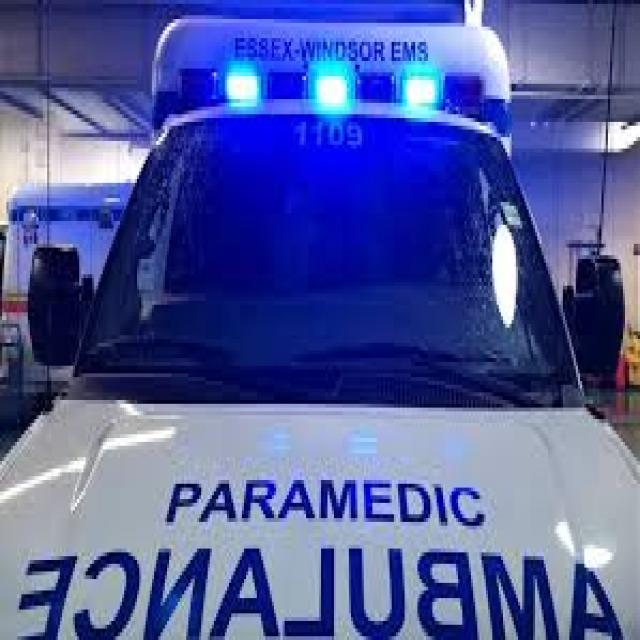emergency lights: (218, 44, 480, 151)
